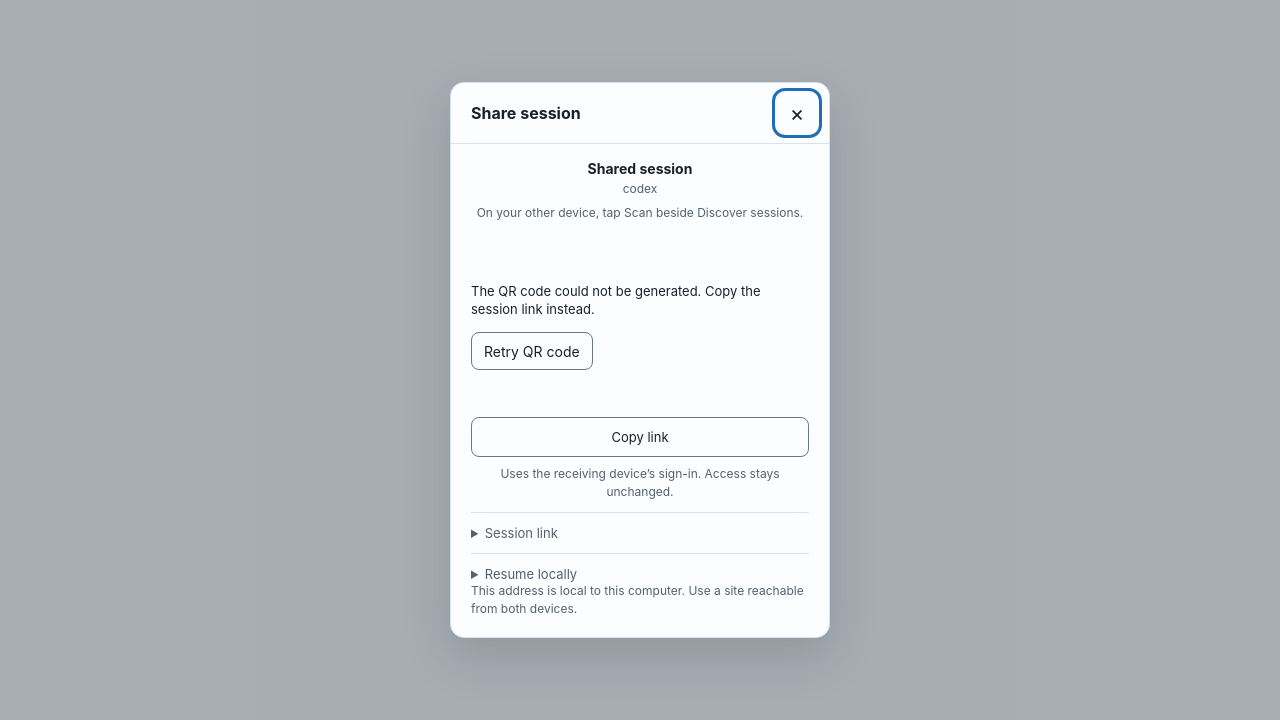
Test: shows QR failure once and keeps it after copying the fallback link
The width and height of the screenshot is (1280, 720).
Click the button "Copy link" at point(640, 437), box left=471, top=417, right=809, bottom=457
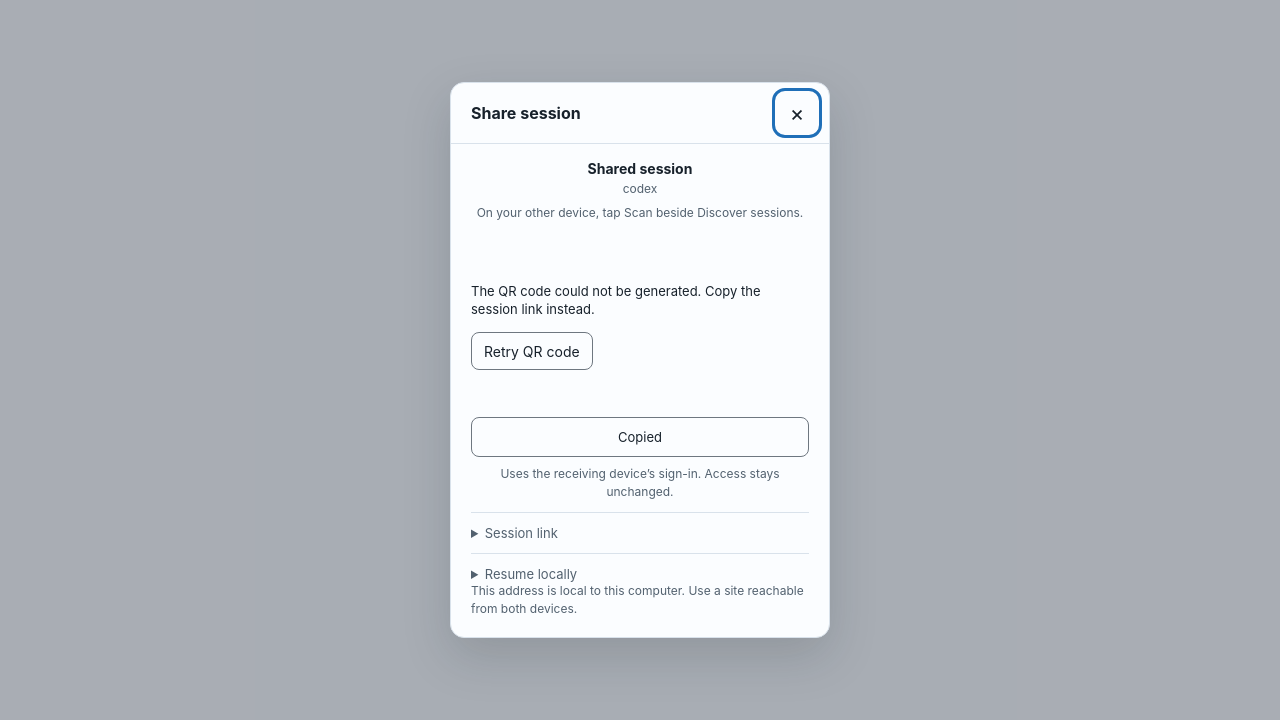
Check: the dialog shows "The QR code could not be generated. Copy the session link instead.", box left=471, top=283, right=760, bottom=317
Check: the button "Copied" is shown, box left=471, top=417, right=809, bottom=457
